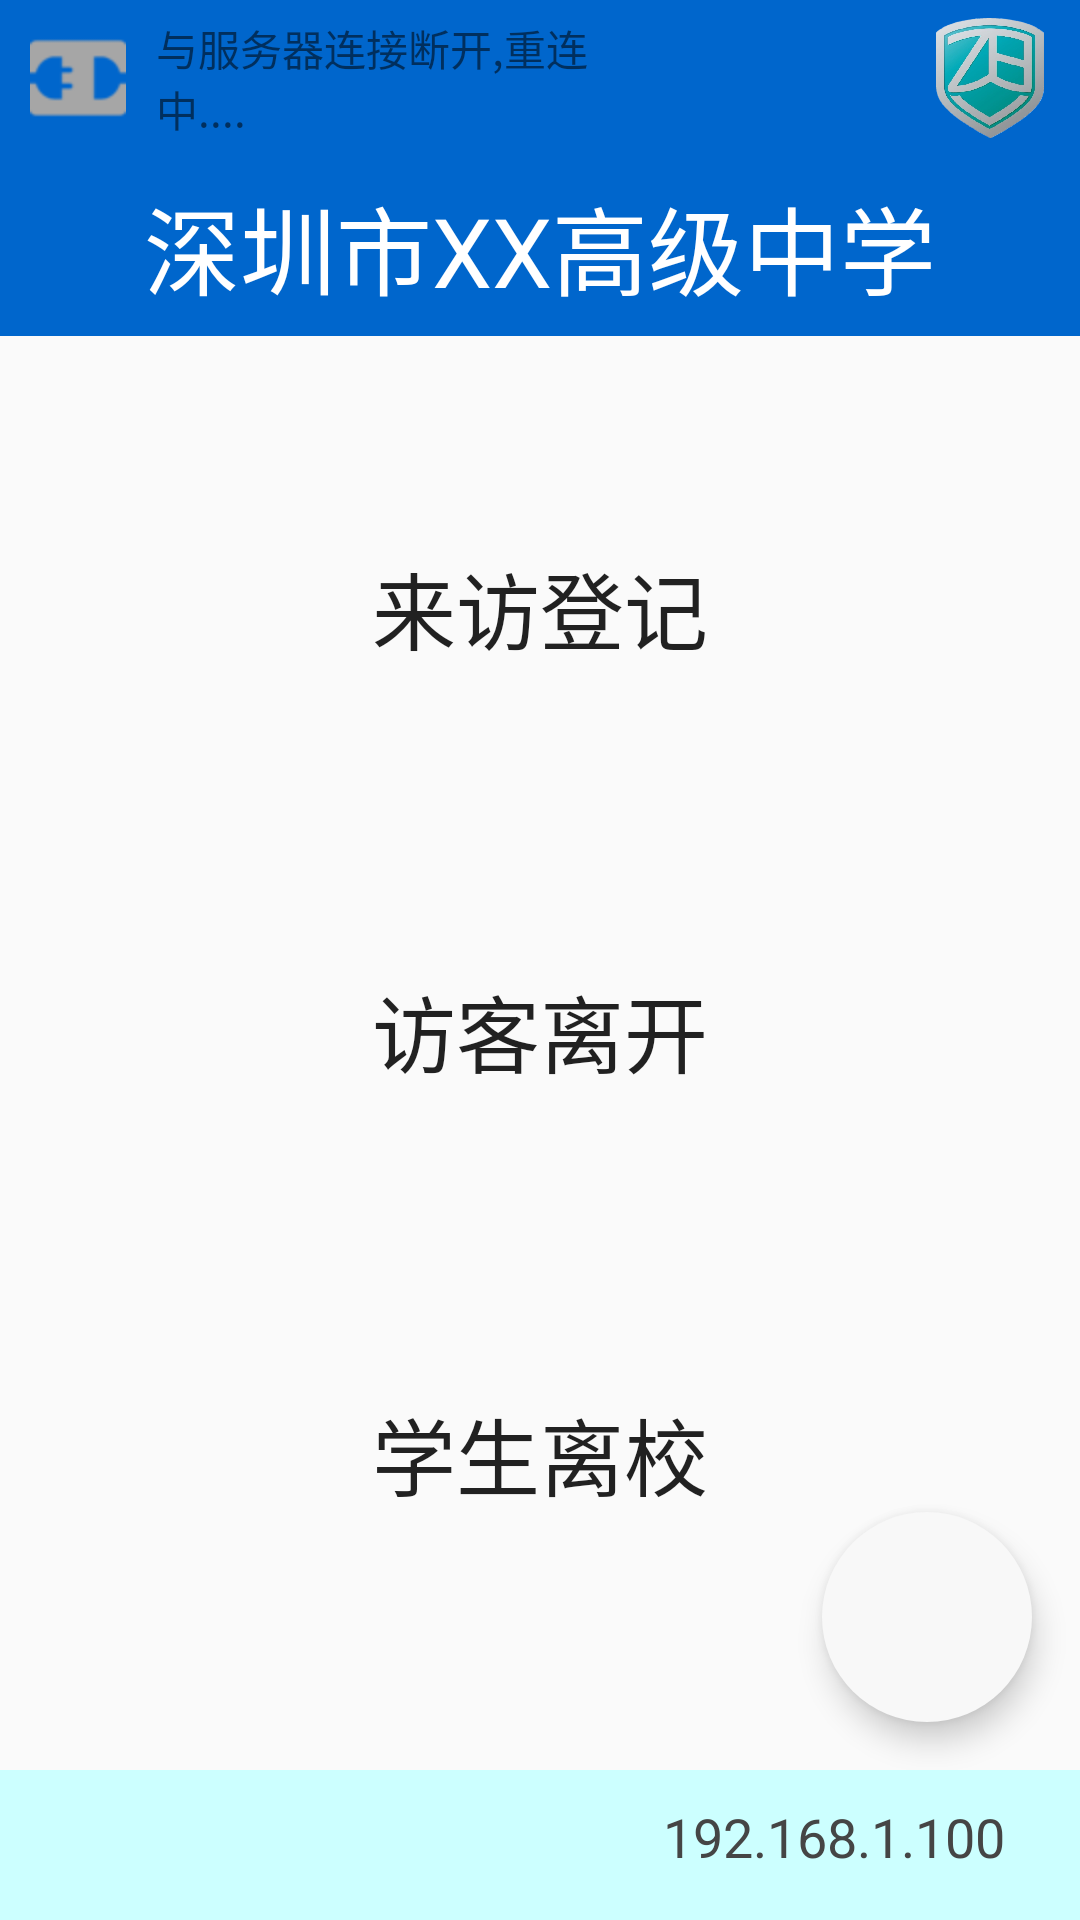

Screen size 1080x1920. Icon name, then its center in pixels as (x,y):
disconnect: (78,78)
